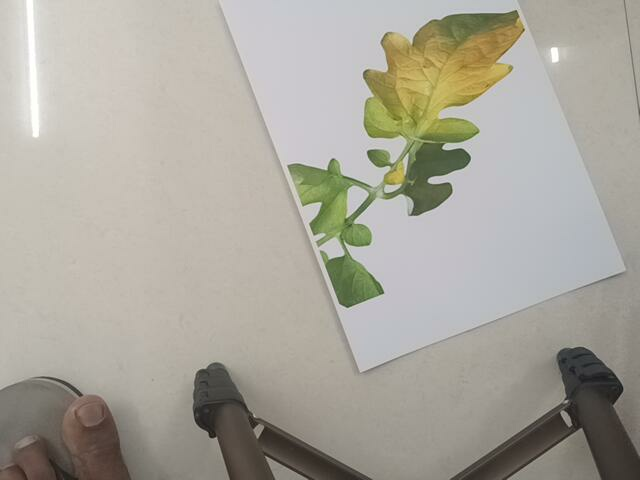Tomamto_Yellow_Disease: (293, 10, 539, 309)
